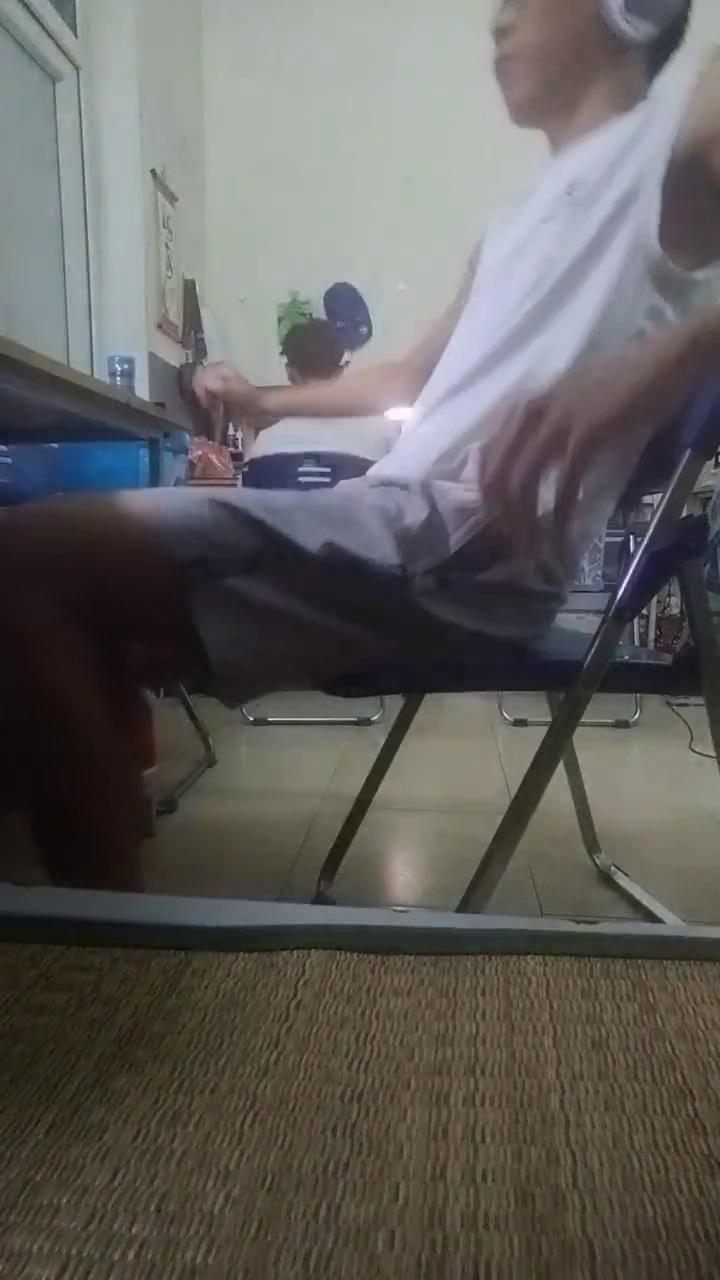BadPosture: (0, 0, 719, 891)
